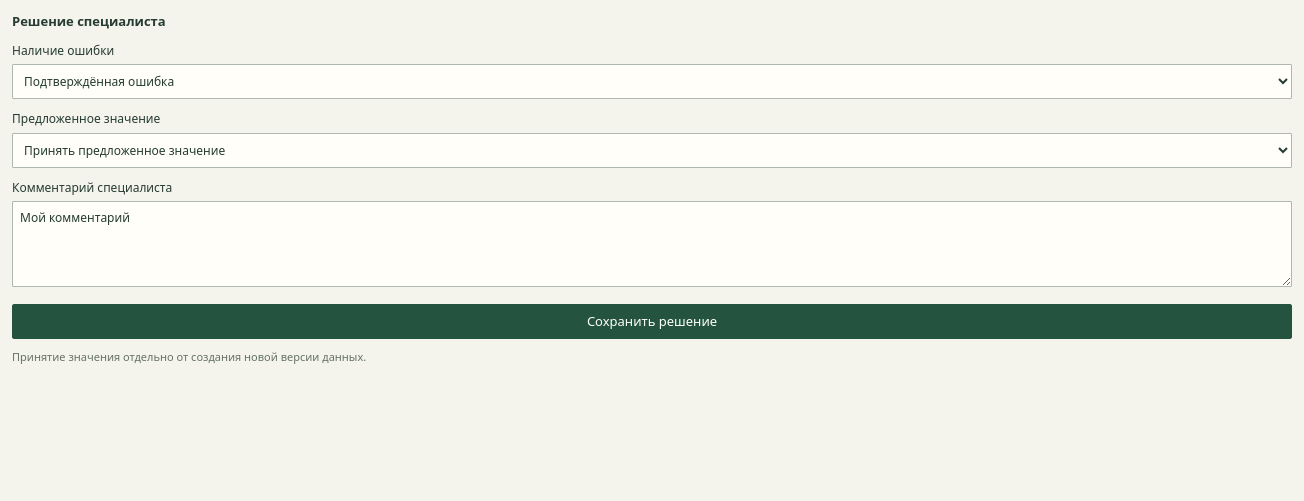
Scenario: 409 сохраняет ввод и требует сверки перед повтором
Click the button "Сохранить решение". click: (652, 321)
box: 12,304 -> 1292,339
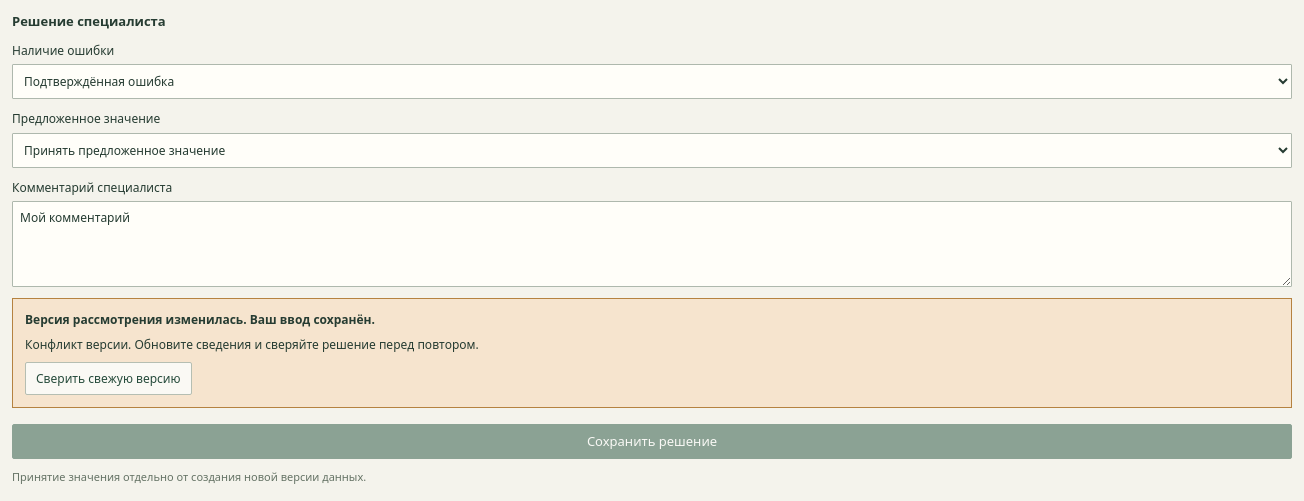
Expected: the text box labelled "Комментарий специалиста" holds "Мой комментарий", 12,201 -> 1292,287
Expected: the text "Версия рассмотрения изменилась. Ваш ввод сохранён." is shown, 25,311 -> 375,328
Expected: the button "Сохранить решение" is disabled, 12,424 -> 1292,459
Click the button "Сверить свежую версию". click: (108, 378)
box: 25,362 -> 192,395
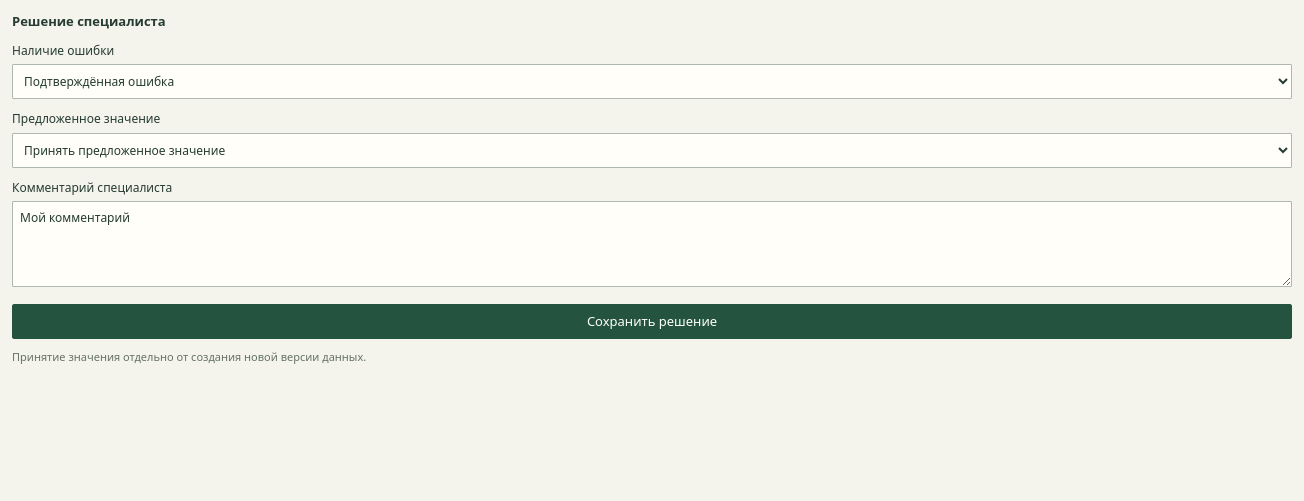
Expected: the button "Сохранить решение" is enabled, 12,304 -> 1292,339
